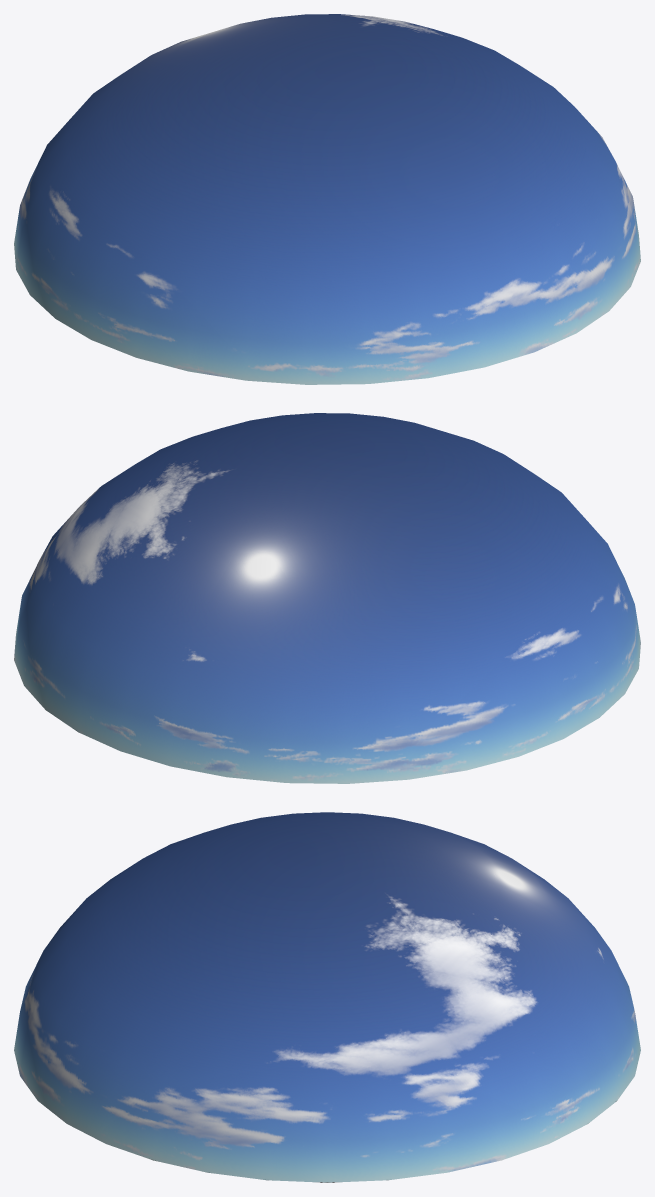
File: SkyDome2.FBX
3 renders of one model, top to bottom at view 1: azimuth 30°, elevation 25°; view 2: azimuth 150°, elevation 25°; view 3: azimuth 270°, elevation 25°, orthographic.
Parts seen in each view (by area): view 1: Sphere001; view 2: Sphere001; view 3: Sphere001.
Boxes of the visible parts, left/top/right/bottom form: Sphere001: left=14, top=14, right=640, bottom=384; Sphere001: left=14, top=413, right=640, bottom=783; Sphere001: left=14, top=812, right=640, bottom=1182.
Size of the model in its own units: 44.24 by 15.4 by 44.24.
1 material, 1 textured.
